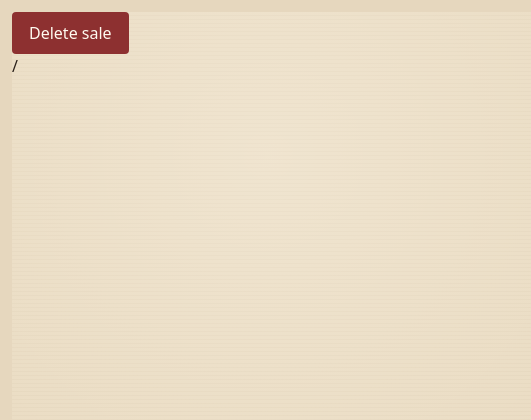
DeleteButton intimacy: medium › disables deletion while the request is pending
The width and height of the screenshot is (531, 420).
What coordinates should you click on to do the following:
click the button "Delete sale"
I would click on:
 (70, 33)
Its box is left=12, top=12, right=129, bottom=54.
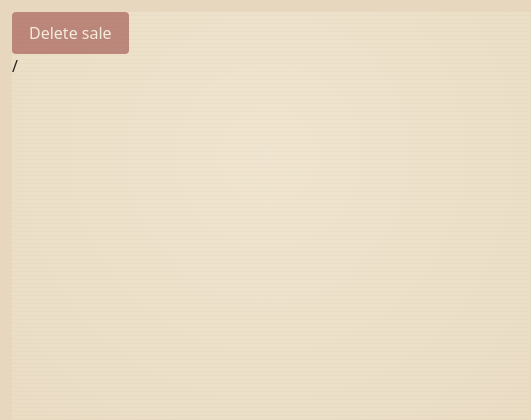
expect the button "Delete sale" is disabled: met, box left=12, top=12, right=129, bottom=54
